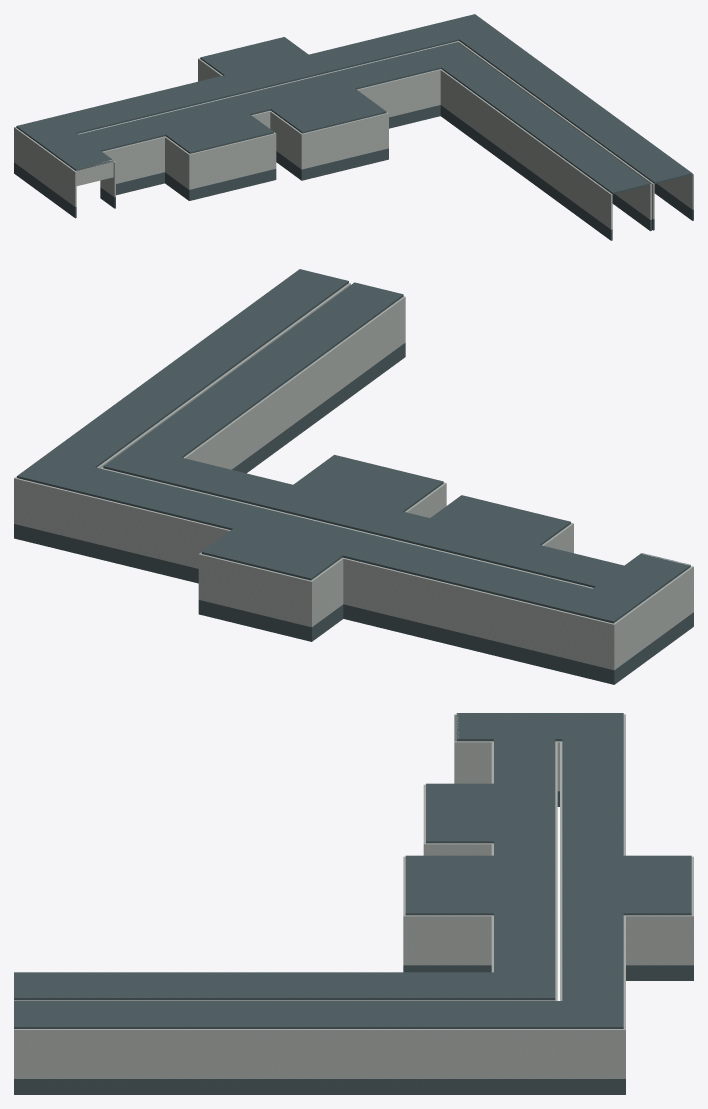
The model's file is AST-STF-G3-039.glb.
3 renders of one model, top to bottom at view 1: azimuth 30°, elevation 25°; view 2: azimuth 150°, elevation 25°; view 3: azimuth 270°, elevation 25°, orthographic. The views are drawn at different scales.
Parts seen in each view (by area): view 1: overhead_staff_bluegrey_paint_3_-42, overhead_staff_bluegrey_paint_2_-42, overhead_staff_bluegrey_paint_4_-42, screen_wall_staff_white_paint_2_-42, overhead_staff_bluegrey_paint_2_-20, screen_wall_staff_white_paint_3_-42, screen_wall_staff_white_paint_4_-42, screen_wall_staff_white_paint_2_-20, overhead_staff_bluegrey_paint_4_-41, overhead_staff_bluegrey_paint_3_-43, screen_wall_staff_white_paint_4_-41, overhead_staff_bluegrey_paint_1_-42 (+14 smaller); view 2: overhead_staff_bluegrey_paint_3_-42, overhead_staff_bluegrey_paint_2_-42, overhead_staff_bluegrey_paint_4_-42, screen_wall_staff_white_paint_3_-43, overhead_staff_bluegrey_paint_2_-20, screen_wall_staff_white_paint_2_-43, screen_wall_staff_white_paint_4_-43, overhead_staff_bluegrey_paint_3_-43, overhead_staff_bluegrey_paint_4_-41, screen_wall_staff_white_paint_4_-41, screen_wall_staff_white_paint_2_-20, screen_wall_staff_white_paint_1_-43 (+19 smaller); view 3: overhead_staff_bluegrey_paint_3_-42, overhead_staff_bluegrey_paint_2_-42, overhead_staff_bluegrey_paint_4_-42, screen_wall_staff_white_paint_5_-42, screen_wall_staff_white_paint_5_-41, overhead_staff_bluegrey_paint_2_-20, screen_wall_staff_white_paint_2_-20, overhead_staff_bluegrey_paint_4_-41, overhead_staff_bluegrey_paint_3_-43, screen_wall_staff_white_paint_3_-42, overhead_staff_bluegrey_paint_5_-41, overhead_staff_bluegrey_paint_5_-42 (+15 smaller).
Boxes of the visible parts, x1,y1,x2,y2 form: overhead_staff_bluegrey_paint_3_-42: [204, 60, 386, 133]; overhead_staff_bluegrey_paint_2_-42: [78, 91, 273, 153]; overhead_staff_bluegrey_paint_4_-42: [330, 29, 528, 96]; screen_wall_staff_white_paint_2_-42: [89, 100, 276, 189]; overhead_staff_bluegrey_paint_2_-20: [551, 129, 692, 194]; screen_wall_staff_white_paint_3_-42: [215, 69, 388, 169]; screen_wall_staff_white_paint_4_-42: [341, 41, 520, 131]; screen_wall_staff_white_paint_2_-20: [550, 139, 693, 229]; overhead_staff_bluegrey_paint_4_-41: [479, 82, 601, 149]; overhead_staff_bluegrey_paint_3_-43: [193, 37, 329, 90]; screen_wall_staff_white_paint_4_-41: [477, 86, 592, 183]; overhead_staff_bluegrey_paint_1_-42: [27, 121, 113, 170]; overhead_staff_bluegrey_paint_3_-42: [234, 455, 443, 554]; overhead_staff_bluegrey_paint_2_-42: [398, 495, 607, 594]; overhead_staff_bluegrey_paint_4_-42: [70, 405, 279, 514]; screen_wall_staff_white_paint_3_-43: [198, 527, 383, 627]; overhead_staff_bluegrey_paint_2_-20: [221, 269, 403, 353]; screen_wall_staff_white_paint_2_-43: [382, 567, 547, 653]; screen_wall_staff_white_paint_4_-43: [54, 487, 218, 568]; overhead_staff_bluegrey_paint_3_-43: [201, 515, 397, 580]; overhead_staff_bluegrey_paint_4_-41: [164, 336, 324, 423]; screen_wall_staff_white_paint_4_-41: [175, 341, 325, 469]; screen_wall_staff_white_paint_2_-20: [270, 283, 405, 399]; screen_wall_staff_white_paint_1_-43: [546, 607, 629, 670]; overhead_staff_bluegrey_paint_3_-42: [405, 834, 592, 920]; overhead_staff_bluegrey_paint_2_-42: [426, 747, 592, 843]; overhead_staff_bluegrey_paint_4_-42: [388, 920, 592, 1006]; screen_wall_staff_white_paint_5_-42: [388, 1029, 592, 1078]; screen_wall_staff_white_paint_5_-41: [186, 1029, 388, 1078]; overhead_staff_bluegrey_paint_2_-20: [14, 972, 184, 1028]; screen_wall_staff_white_paint_2_-20: [14, 1000, 184, 1078]; overhead_staff_bluegrey_paint_4_-41: [184, 972, 388, 1006]; overhead_staff_bluegrey_paint_3_-43: [593, 834, 691, 920]; screen_wall_staff_white_paint_3_-42: [403, 836, 562, 965]; overhead_staff_bluegrey_paint_5_-41: [184, 1006, 388, 1028]; overhead_staff_bluegrey_paint_5_-42: [388, 1006, 592, 1028].
Size of the model in its own units: 43.88 by 4.34 by 39.94.
Materials: 6 (6 with a texture image).
